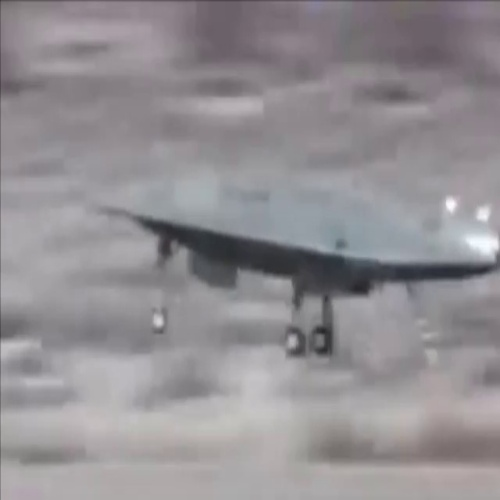uav996: (92, 187, 496, 363)
